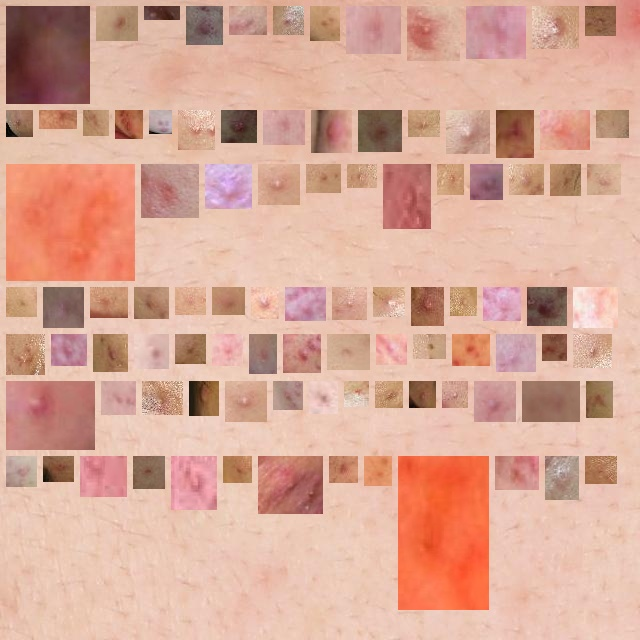papule: (14, 172, 127, 273), (406, 464, 481, 602), (14, 14, 82, 96), (14, 389, 87, 442), (266, 464, 315, 506), (474, 14, 518, 51), (149, 172, 191, 210), (391, 172, 423, 221), (354, 14, 393, 54), (415, 14, 452, 53), (179, 464, 209, 502), (530, 389, 572, 414), (213, 172, 244, 201), (540, 14, 571, 41), (548, 118, 582, 142), (454, 118, 482, 146), (88, 464, 119, 489), (366, 118, 394, 144), (581, 295, 610, 320), (504, 118, 526, 150), (319, 118, 344, 145), (266, 172, 292, 197), (233, 389, 259, 414), (482, 389, 508, 414), (51, 295, 76, 320), (14, 342, 37, 367), (535, 295, 559, 318), (335, 342, 362, 362), (504, 342, 528, 364), (291, 342, 313, 365), (186, 118, 207, 142), (503, 464, 531, 482), (553, 464, 571, 492), (104, 14, 130, 33), (271, 118, 297, 137), (194, 14, 215, 37), (293, 295, 318, 313), (150, 389, 175, 407), (101, 342, 120, 364), (581, 342, 604, 360), (491, 295, 513, 313), (419, 295, 436, 318), (142, 342, 161, 361), (460, 342, 482, 358), (109, 389, 128, 407), (229, 118, 249, 135), (478, 172, 495, 192), (98, 295, 120, 310), (340, 295, 359, 312), (59, 342, 79, 358), (142, 295, 161, 311), (257, 342, 269, 366), (237, 14, 259, 27), (517, 172, 536, 187), (141, 464, 157, 481), (595, 172, 613, 187), (318, 14, 332, 33), (197, 389, 211, 408), (314, 172, 333, 185), (558, 172, 573, 188), (220, 342, 235, 358), (594, 389, 605, 410), (384, 342, 399, 357), (14, 464, 29, 479), (381, 295, 397, 309), (317, 389, 330, 406), (593, 14, 608, 28), (14, 295, 29, 309), (183, 342, 198, 356), (604, 118, 621, 130), (220, 295, 237, 307), (281, 14, 296, 27), (259, 295, 271, 311), (593, 464, 609, 476), (281, 389, 295, 402), (183, 295, 198, 307), (416, 118, 432, 129), (372, 464, 384, 478), (445, 172, 456, 187), (123, 118, 135, 131), (421, 342, 438, 351), (51, 464, 66, 474), (458, 295, 469, 308), (231, 464, 244, 475), (337, 464, 350, 475), (383, 389, 395, 400), (14, 118, 25, 129), (417, 389, 428, 400), (355, 172, 369, 180), (450, 389, 460, 400), (152, 14, 172, 19), (91, 118, 101, 128), (550, 342, 559, 353), (352, 388, 361, 399), (157, 118, 164, 126)
